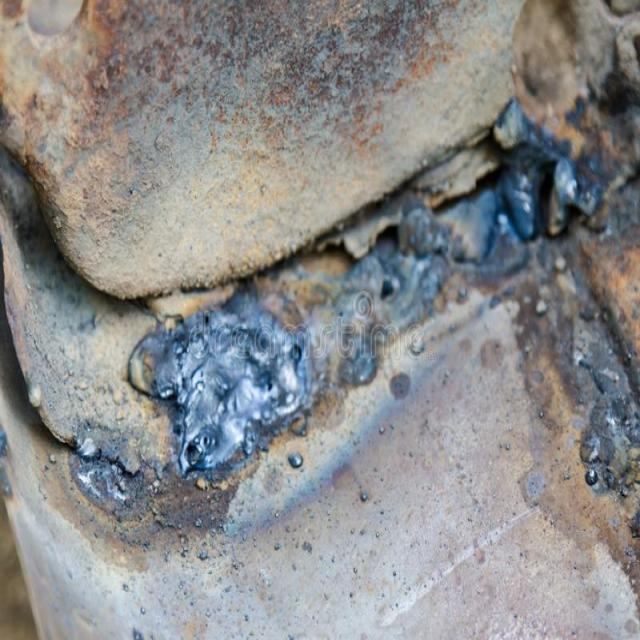Bad Weld: (84, 108, 633, 555)
Defect: (182, 420, 212, 465), (374, 278, 396, 302)
